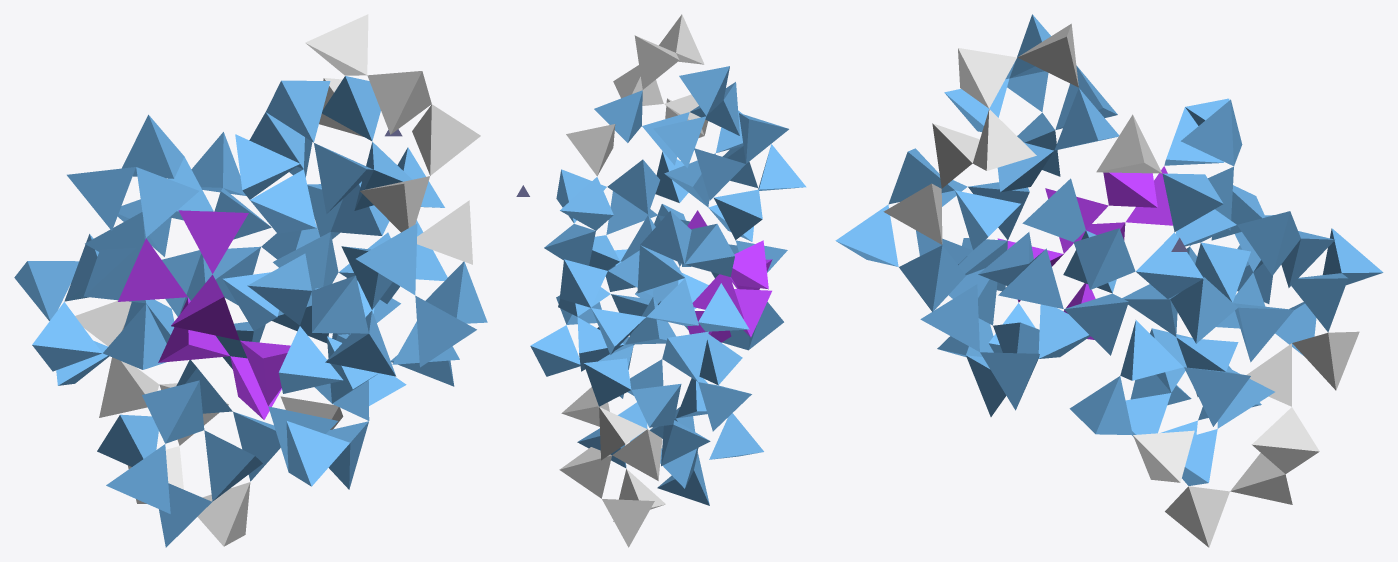
File: 02_Dimer_WithTopZinc.fbx
3 renders of one model, left to right at view 1: azimuth 30°, elevation 25°; view 2: azimuth 150°, elevation 25°; view 3: azimuth 270°, elevation 25°, orthographic. The views are drawn at different scales.
Parts seen in each view (by area): view 1: 02_Dimer_WithTopZinc; view 2: 02_Dimer_WithTopZinc; view 3: 02_Dimer_WithTopZinc.
Part boxes in pixels (x1,y1,x2,y2): 02_Dimer_WithTopZinc: (14,14,487,547); 02_Dimer_WithTopZinc: (516,14,806,547); 02_Dimer_WithTopZinc: (835,14,1383,547).
Bounding box in the file's own units: 268 × 433 × 404.
1 material, 1 textured.
